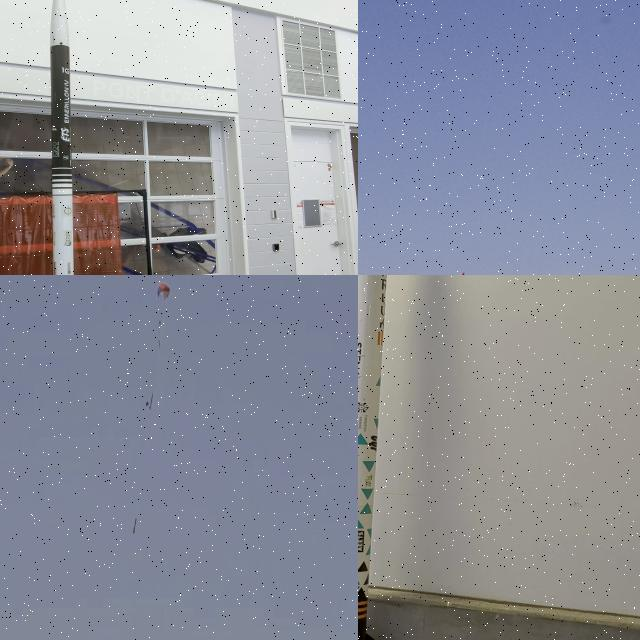Rocket: (358, 275, 387, 640), (50, 0, 74, 275), (132, 518, 136, 534)
